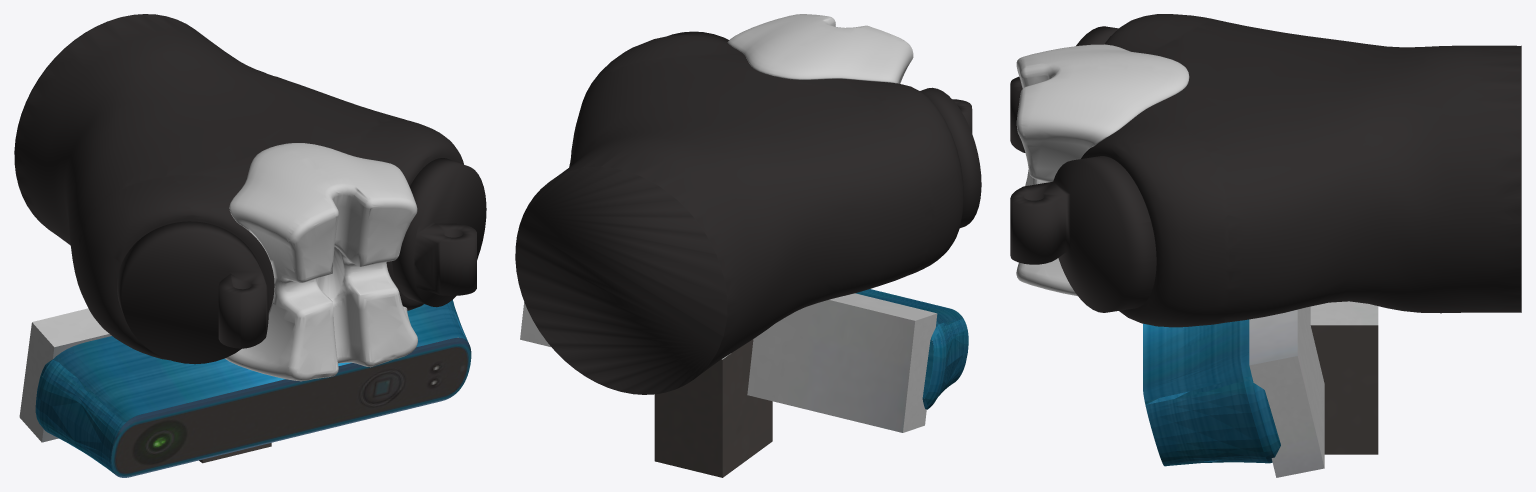
The model's file is mico_hand_structureio.dae.
The picture shows the model from 3 angles, left to right: view 1: azimuth 30°, elevation 25°; view 2: azimuth 150°, elevation 25°; view 3: azimuth 270°, elevation 25°; orthographic projection. The views are drawn at different scales.
Parts seen in each view (by area): view 1: Mico_very_simplified_-_Hand_Mico_assembly_-_no_fingers-1, StructureIO, Mico_very_simplified_-_Palm-1; view 2: Mico_very_simplified_-_Hand_Mico_assembly_-_no_fingers-1, StructureIO, Mico_very_simplified_-_Palm-1; view 3: Mico_very_simplified_-_Hand_Mico_assembly_-_no_fingers-1, StructureIO, Mico_very_simplified_-_Palm-1.
Boxes of the visible parts, x1,y1,x2,y2 form: Mico_very_simplified_-_Hand_Mico_assembly_-_no_fingers-1: (14, 14, 486, 364); StructureIO: (19, 300, 471, 477); Mico_very_simplified_-_Palm-1: (225, 143, 417, 381); Mico_very_simplified_-_Hand_Mico_assembly_-_no_fingers-1: (515, 31, 981, 394); StructureIO: (520, 289, 968, 477); Mico_very_simplified_-_Palm-1: (727, 14, 913, 83); Mico_very_simplified_-_Hand_Mico_assembly_-_no_fingers-1: (1010, 14, 1521, 327); StructureIO: (1143, 301, 1378, 477); Mico_very_simplified_-_Palm-1: (1016, 44, 1189, 296).
Size of the model in its own units: 0.1192 by 0.0986 by 0.1204.
Materials: 2 (2 with a texture image).
